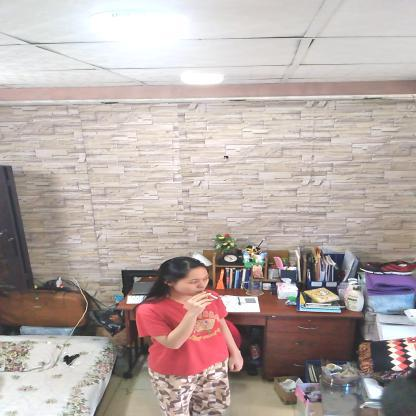cigarette: (210, 294, 219, 299)
person: (131, 256, 242, 415)
